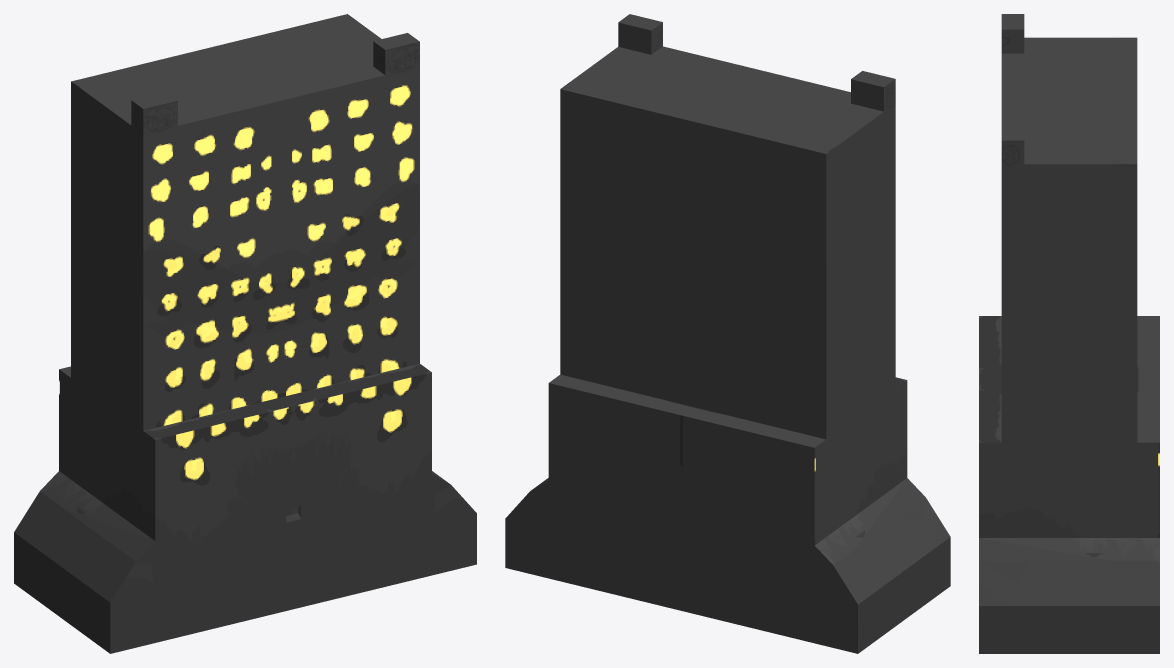
Rendered from stage0_appearance.glb.
3 views of the same model, side by side, from view 1: azimuth 30°, elevation 25°; view 2: azimuth 150°, elevation 25°; view 3: azimuth 270°, elevation 25° (orthographic). The views are drawn at different scales.
Visible parts, largest first — view 1: dracula's castle; view 2: dracula's castle; view 3: dracula's castle.
Part boxes in pixels (x1,y1,x2,y2): dracula's castle: [14, 14, 476, 653]; dracula's castle: [505, 14, 950, 653]; dracula's castle: [979, 14, 1159, 653].
Size of the model in its own units: 142 by 194 by 64.49.
Materials: 1 (1 with a texture image).
